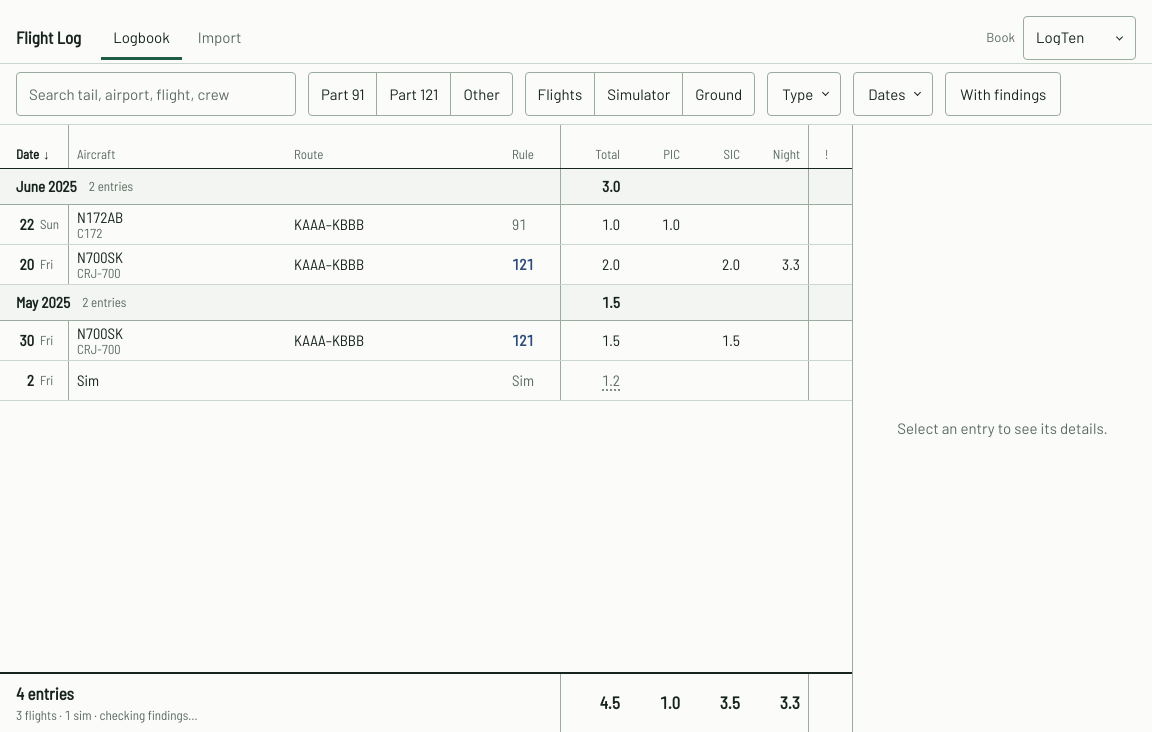
Logbook screen › offers only books that exist and remembers the choice
Select "ForeFlight" in the dropdown labelled "Book". click: (1080, 38)
box: [1023,16,1136,60]
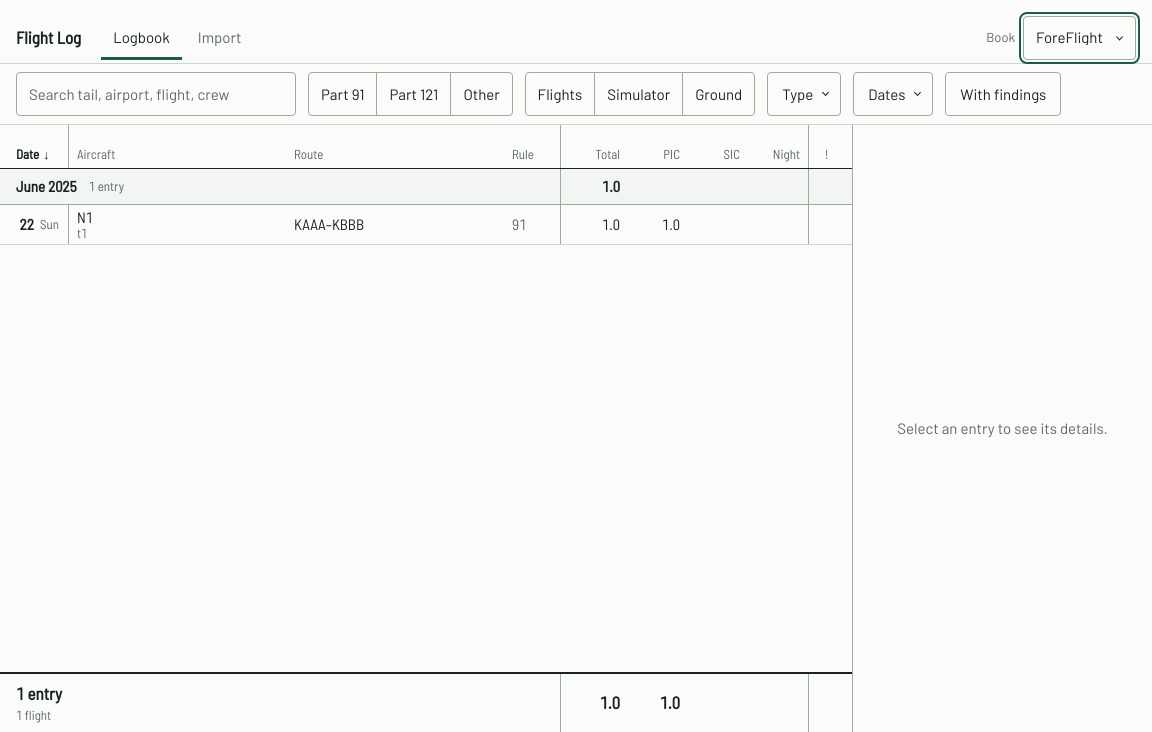
Expected: the table named "ForeFlight entries" is shown
